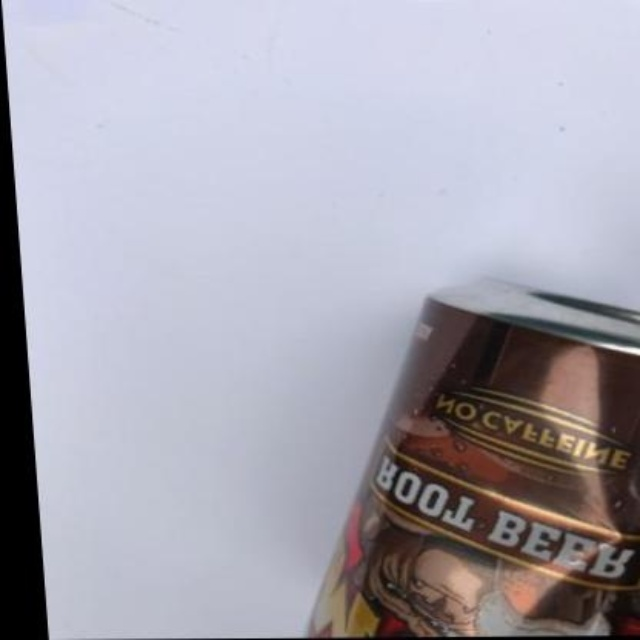trash: (309, 280, 638, 635)
